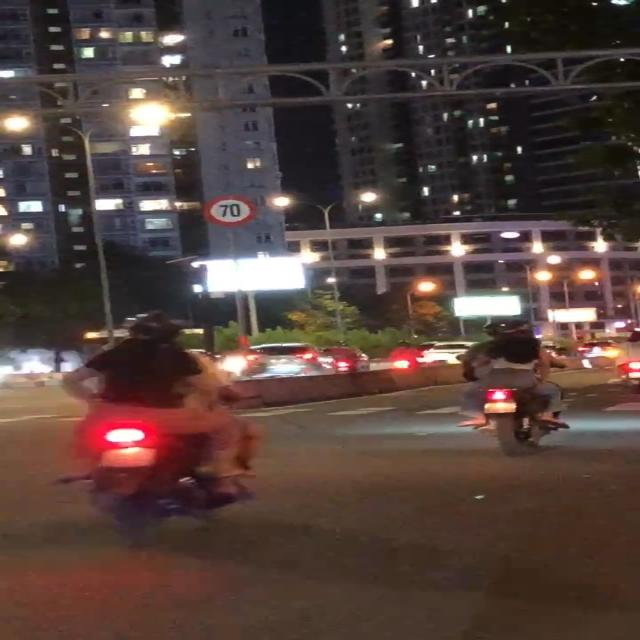Bien bao toc do toi da cho phep: (200, 195, 266, 232)
